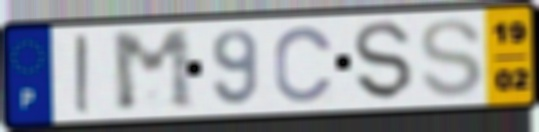9: (209, 27, 261, 108)
C: (272, 23, 337, 106)
I: (72, 31, 95, 116)
M: (107, 26, 198, 116)
S: (416, 16, 486, 101), (351, 20, 417, 103)
